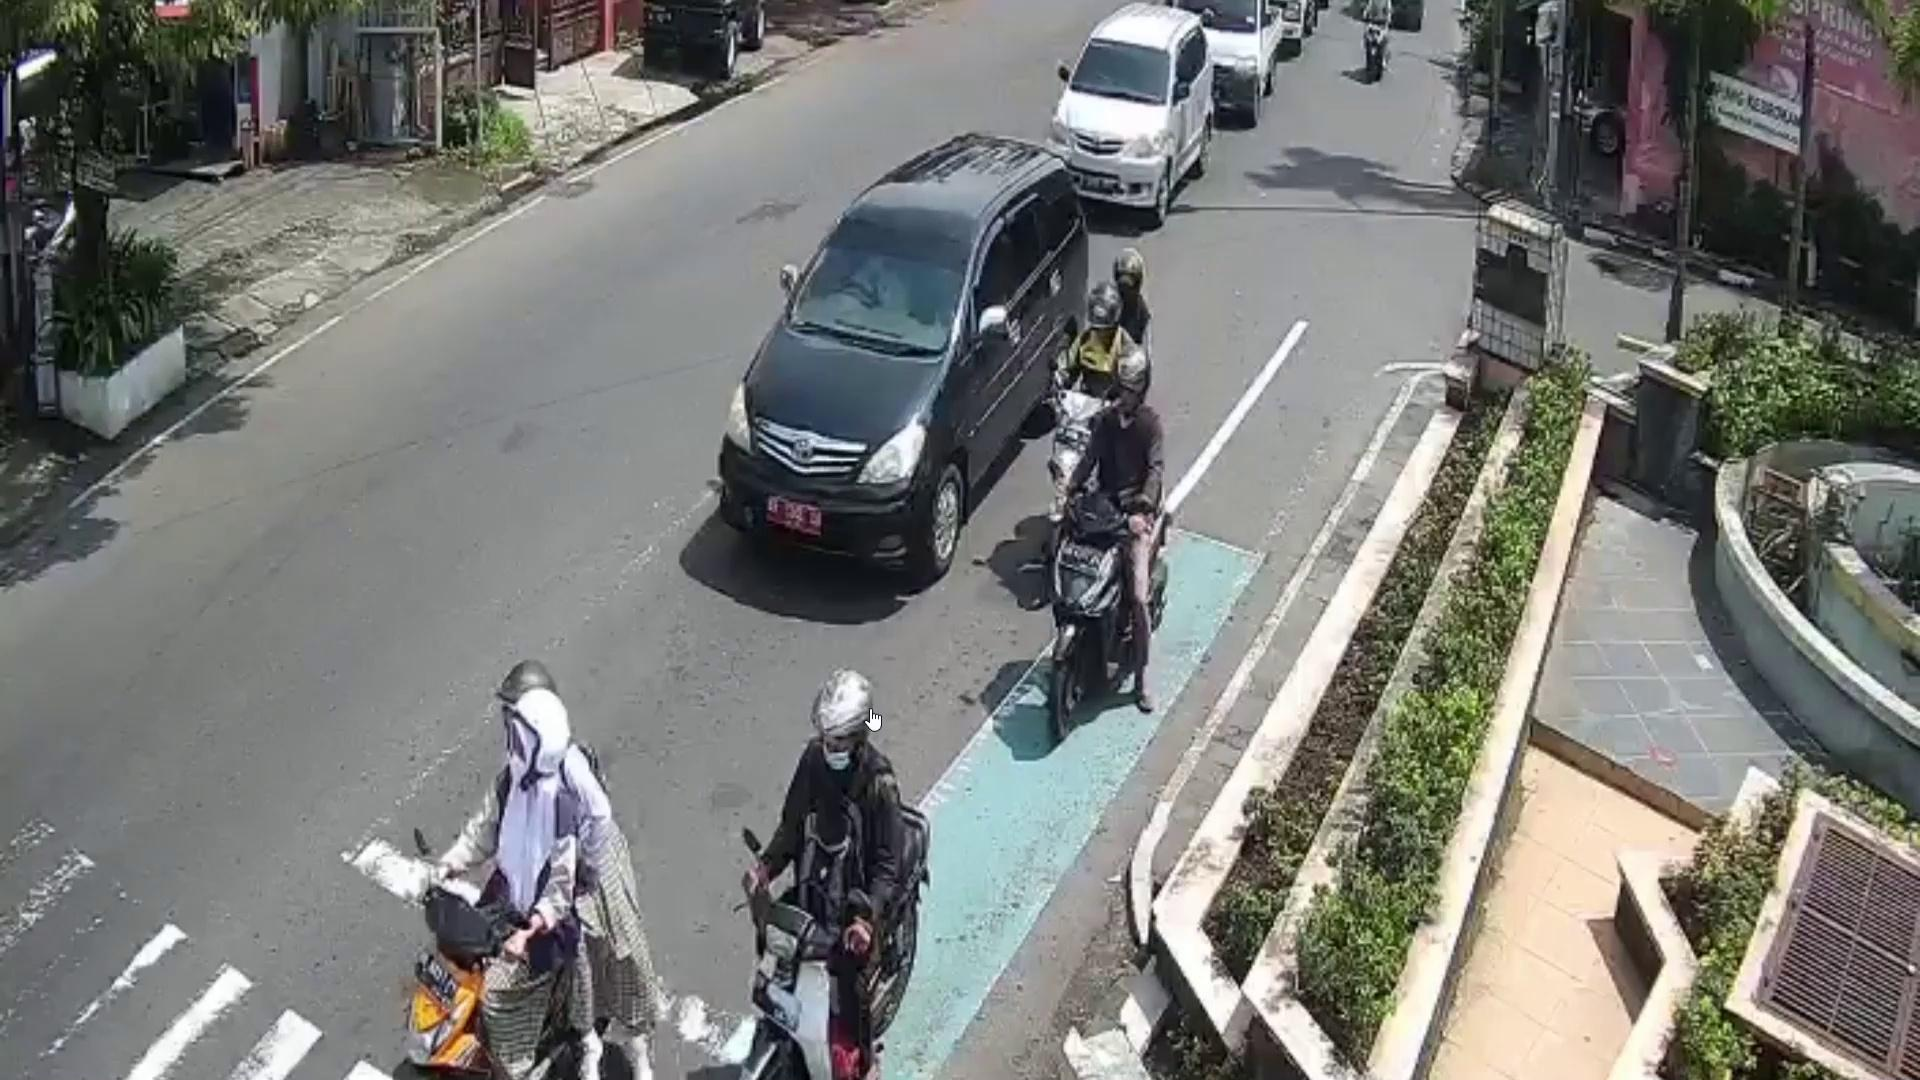car: (717, 135, 1087, 607), (1052, 1, 1212, 229)
motorbike: (738, 803, 934, 1080), (404, 885, 572, 1080), (1054, 491, 1168, 731)
